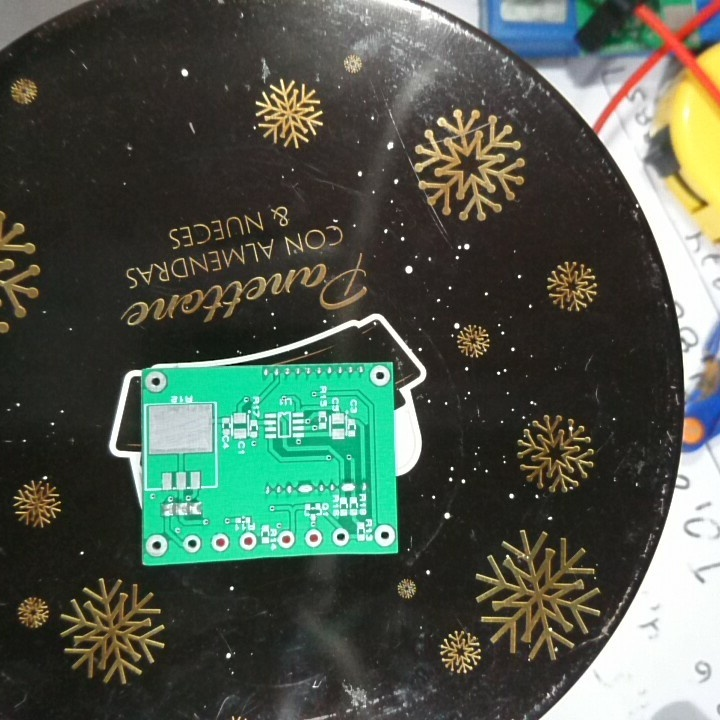F: (144, 533, 170, 558), (372, 523, 397, 548), (367, 364, 392, 387), (181, 532, 205, 555), (143, 371, 168, 392), (210, 532, 232, 553), (303, 527, 324, 548), (238, 528, 258, 549), (276, 530, 298, 549), (331, 527, 351, 547)
P: (295, 481, 314, 495), (339, 481, 355, 494)
